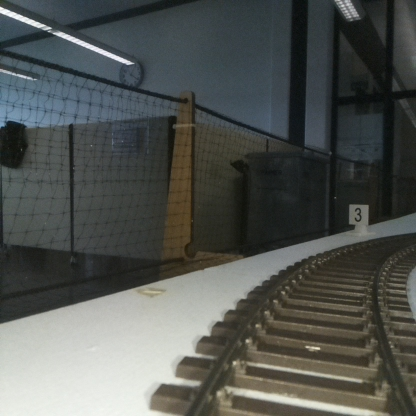white-stop-3: (349, 204, 368, 238)
